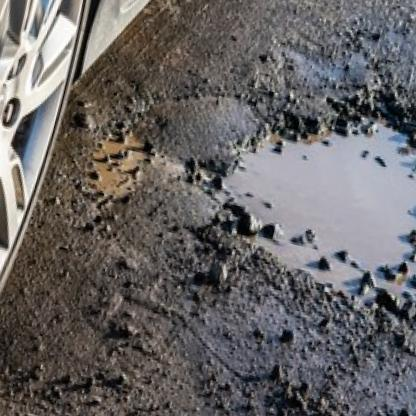pothole: (198, 58, 416, 331)
